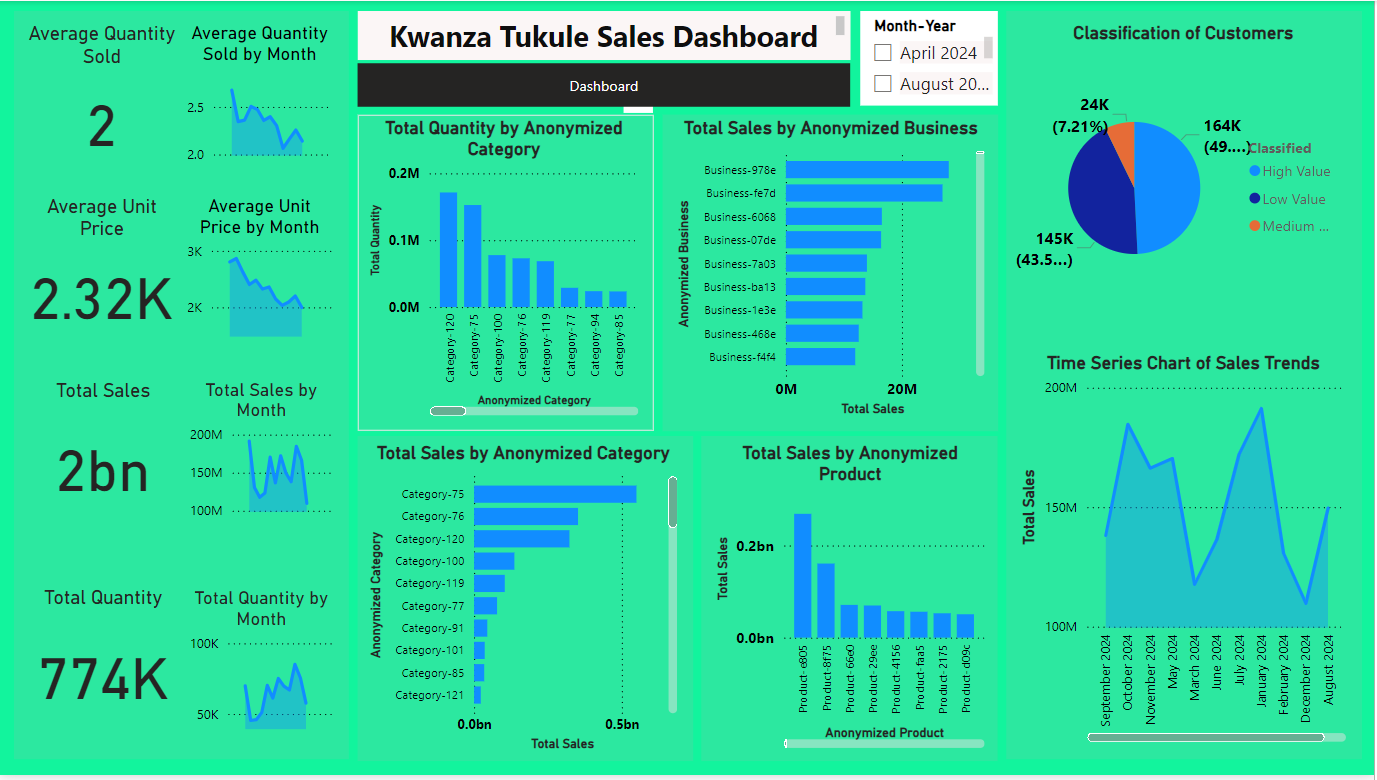

The dashboard page shown, as its layout file describes it:
{"tool":"powerbi","page":{"name":"Dashboard","canvas":[1280,720],"ordinal":0},"visuals":[{"type":"shape","box":[13.7,9.6,311.5,695.7],"z":0},{"type":"shape","box":[937.2,9.6,330.7,695.7],"z":1000},{"type":"shape","box":[333.7,404.7,311.6,302.3],"z":2000},{"type":"shape","box":[617.4,105.8,311.6,294.2],"z":3000},{"type":"shape","box":[653.5,404.7,275.6,302.3],"z":4000},{"type":"shape","box":[333.7,105.8,275.6,294.2],"z":5000},{"type":"card","title":"Average Quantity Sold","fields":{"Values":["Measure Table.Average_Quantity_Sold"]},"box":[20.6,19.2,149.6,137.2],"z":6000},{"type":"areaChart","title":"Average Quantity Sold by Month","fields":{"Y":["Measure Table.Average_Quantity_Sold"],"Category":["Case Study Data.Month"]},"box":[170.2,19.2,145.5,137.2],"z":7000},{"type":"card","title":"Average Unit Price","fields":{"Values":["Measure Table.Average_Unit_Price"]},"box":[20.6,180.1,149.6,137.2],"z":8000},{"type":"areaChart","title":"Average Unit Price by Month","fields":{"Y":["Measure Table.Average_Unit_Price"],"Category":["Case Study Data.Month"]},"box":[170.2,180.1,145.5,137.2],"z":9000},{"type":"card","title":"Total Sales","fields":{"Values":["Sum(Case Study Data.TOTAL SALES)"]},"box":[22.5,351.7,149.6,137.2],"z":10000},{"type":"areaChart","title":"Total Sales by Month","fields":{"Y":["Sum(Case Study Data.TOTAL SALES)"],"Category":["Case Study Data.Month"]},"box":[172.1,351.3,144.1,137.2],"z":11000},{"type":"card","title":"Total Quantity","fields":{"Values":["Sum(Case Study Data.QUANTITY)"]},"box":[22,544.4,149.6,137.2],"z":12000},{"type":"areaChart","title":"Total Quantity by Month","fields":{"Y":["Sum(Case Study Data.QUANTITY)"],"Category":["Case Study Data.Month"]},"box":[171.5,544.8,144.1,137.2],"z":13000},{"type":"areaChart","title":"Time Series Chart of Sales Trends","fields":{"Y":["Sum(Case Study Data.TOTAL SALES)"],"Category":["Case Study Data.Month-Year"]},"box":[945.4,326.7,312.8,367.4],"z":14000},{"type":"columnChart","title":"Total Quantity by Anonymized Category","fields":{"Category":["Case Study Data.ANONYMIZED CATEGORY"],"Y":["Sum(Case Study Data.QUANTITY)"]},"box":[339.5,108.1,260.5,282.6],"z":15000},{"type":"columnChart","title":"Total Sales by Anonymized Product","fields":{"Category":["Case Study Data.ANONYMIZED PRODUCT"],"Y":["Sum(Case Study Data.TOTAL SALES)"]},"box":[661.6,410.5,260.5,289.5],"z":16000},{"type":"barChart","title":"Total Sales by Anonymized Business","fields":{"Category":["Case Study Data.ANONYMIZED BUSINESS"],"Y":["Sum(Case Study Data.TOTAL SALES)"]},"box":[625.6,108.1,296.5,282.6],"z":17000},{"type":"barChart","title":"Total Sales by Anonymized Category","fields":{"Category":["Case Study Data.ANONYMIZED CATEGORY"],"Y":["Sum(Case Study Data.TOTAL SALES)"]},"box":[339.5,410.5,296.5,291.9],"z":18000},{"type":"textbox","box":[333.7,9.3,458.1,45.3],"z":19000},{"type":"pageNavigator","box":[333.7,58.1,458.1,40.7],"z":20000},{"type":"slicer","fields":{"Values":["Case Study Data.Month-Year"]},"box":[801.2,9.3,127.9,88.4],"z":21000},{"type":"pieChart","title":"Classification of Customers","fields":{"Category":["Classified_summary.Classified"],"Y":["Sum(Classified_summary.count)"]},"box":[945.4,19.8,312.8,289.5],"z":22000}]}

Visuals, with their boxes in screenshot pixels (x1, y1, x2, y2), scaled from the page's 1280x720 canvas onto the 1377x780 screenshot:
shape: [15,10,350,764]
shape: [1008,10,1364,764]
shape: [359,438,694,766]
shape: [664,115,999,433]
shape: [703,438,1000,766]
shape: [359,115,655,433]
"Average Quantity Sold" card: [22,21,183,169]
"Average Quantity Sold by Month" areaChart: [183,21,340,169]
"Average Unit Price" card: [22,195,183,344]
"Average Unit Price by Month" areaChart: [183,195,340,344]
"Total Sales" card: [24,381,185,530]
"Total Sales by Month" areaChart: [185,381,340,529]
"Total Quantity" card: [24,590,185,738]
"Total Quantity by Month" areaChart: [184,590,340,739]
"Time Series Chart of Sales Trends" areaChart: [1017,354,1354,752]
"Total Quantity by Anonymized Category" columnChart: [365,117,645,423]
"Total Sales by Anonymized Product" columnChart: [712,445,992,758]
"Total Sales by Anonymized Business" barChart: [673,117,992,423]
"Total Sales by Anonymized Category" barChart: [365,445,684,761]
textbox: [359,10,852,59]
pageNavigator: [359,63,852,107]
slicer - Case Study Data.Month-Year: [862,10,1000,106]
"Classification of Customers" pieChart: [1017,21,1354,335]
